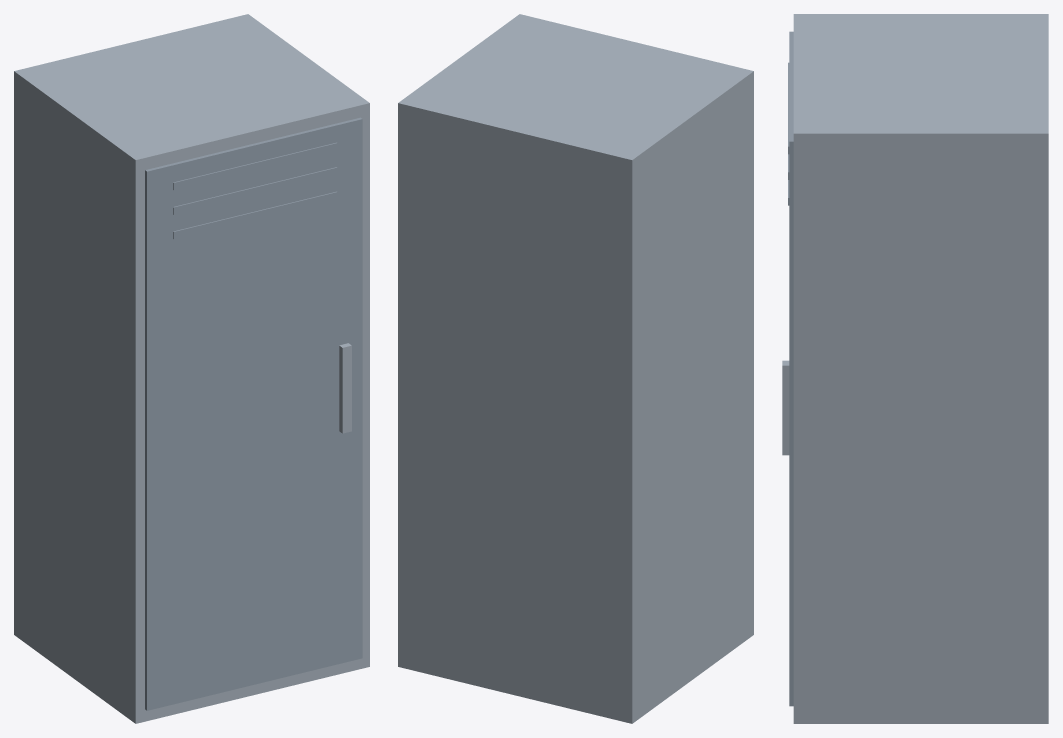
File: Locker.fbx
3 renders of one model, left to right at view 1: azimuth 30°, elevation 25°; view 2: azimuth 150°, elevation 25°; view 3: azimuth 270°, elevation 25°, orthographic. The views are drawn at different scales.
Parts seen in each view (by area): view 1: Locker; view 2: Locker; view 3: Locker.
Boxes of the visible parts, x1,y1,x2,y2 form: Locker: [14, 14, 369, 723]; Locker: [398, 14, 753, 723]; Locker: [782, 14, 1048, 723].
Size of the model in its own units: 1 by 2.3 by 0.94.
